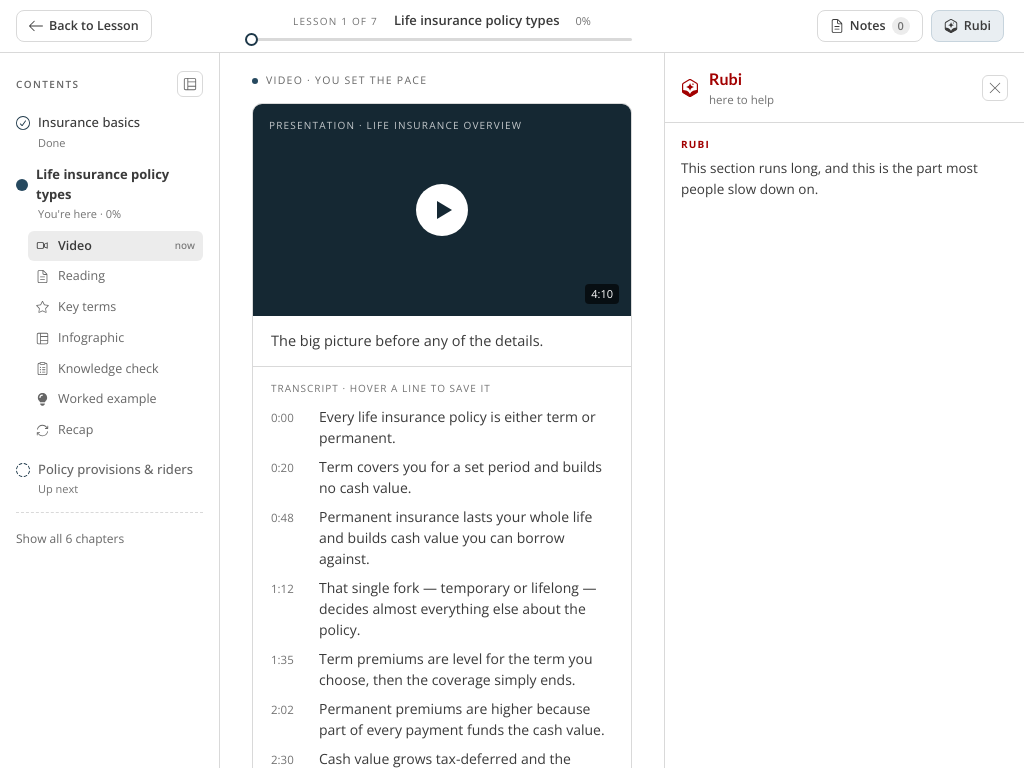
Test: the Infographic beat › draws the chart instead of apologising for it
Click the button "Infographic" at point(116, 338), box x1=28 y1=323 x2=203 y2=354
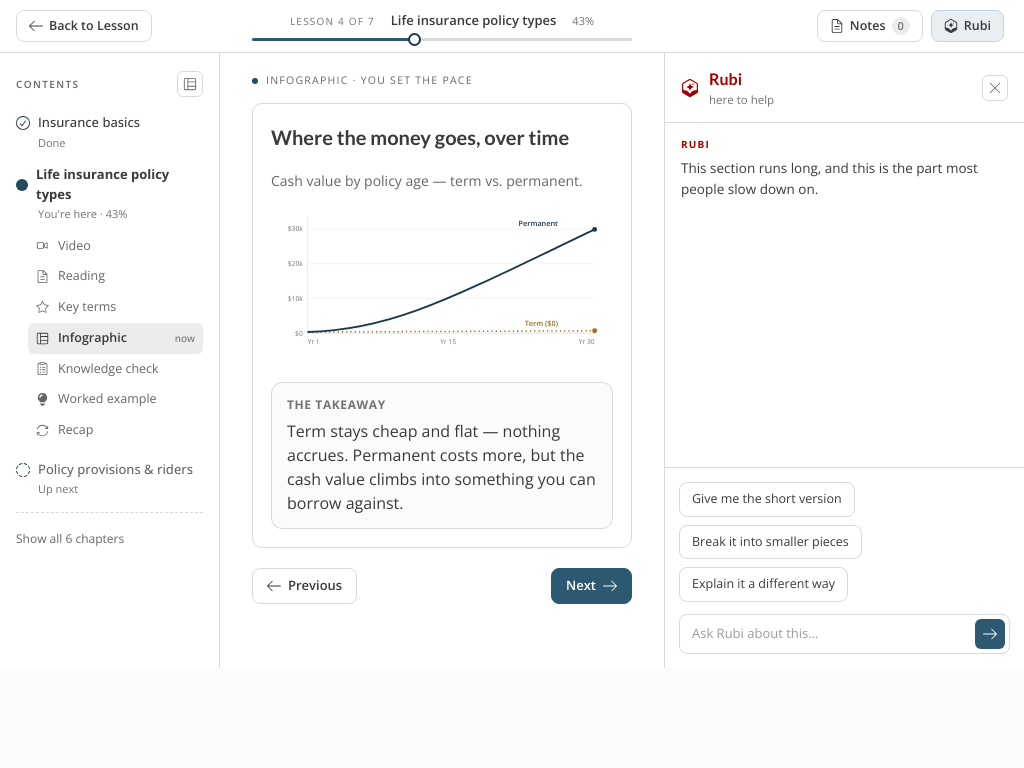
Check: the picture named "Line chart" is shown, box x1=271 y1=205 x2=613 y2=364
Check: the picture named "Line chart" shows "Permanent", box x1=518 y1=218 x2=558 y2=228
Check: the picture named "Line chart" shows "Term ($0)", box x1=525 y1=318 x2=558 y2=328
